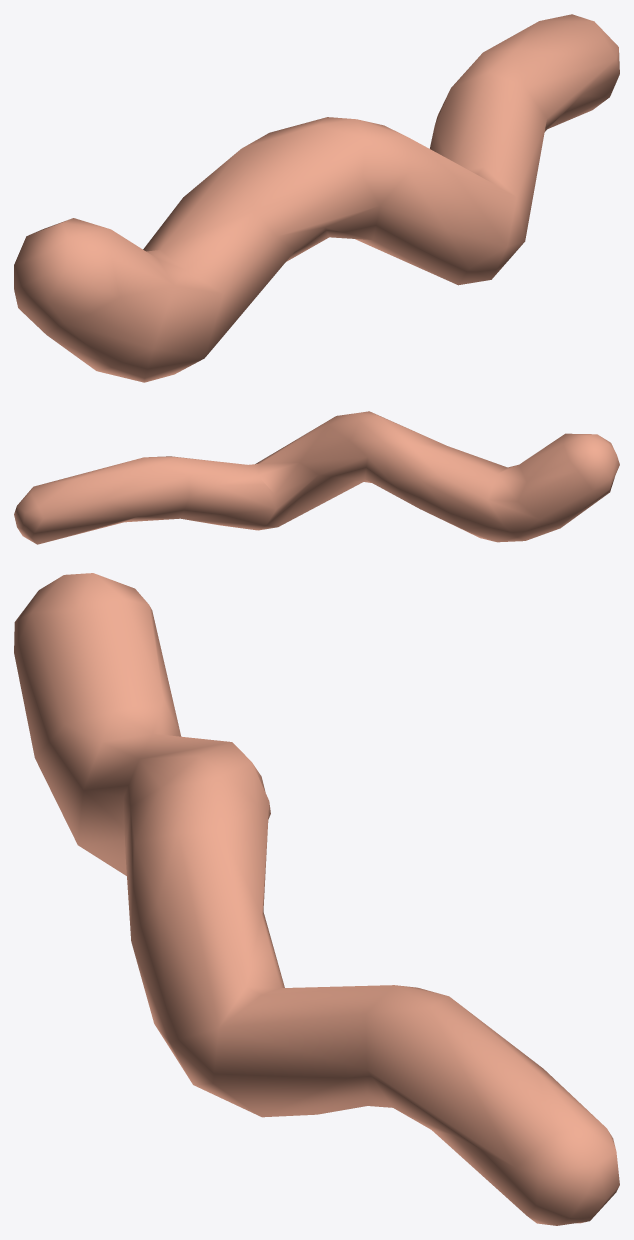
File: visceras-vermiform-appendix.glb
3 renders of one model, top to bottom at view 1: azimuth 30°, elevation 25°; view 2: azimuth 150°, elevation 25°; view 3: azimuth 270°, elevation 25°, orthographic. The views are drawn at different scales.
Parts seen in each view (by area): view 1: Vermiform appendix; view 2: Vermiform appendix; view 3: Vermiform appendix.
Boxes of the visible parts, bbox=[...] form: Vermiform appendix: bbox=[14, 14, 619, 382]; Vermiform appendix: bbox=[14, 411, 619, 544]; Vermiform appendix: bbox=[14, 573, 619, 1225].
Size of the model in its own units: 0.0692 by 0.0181 by 0.0388.
